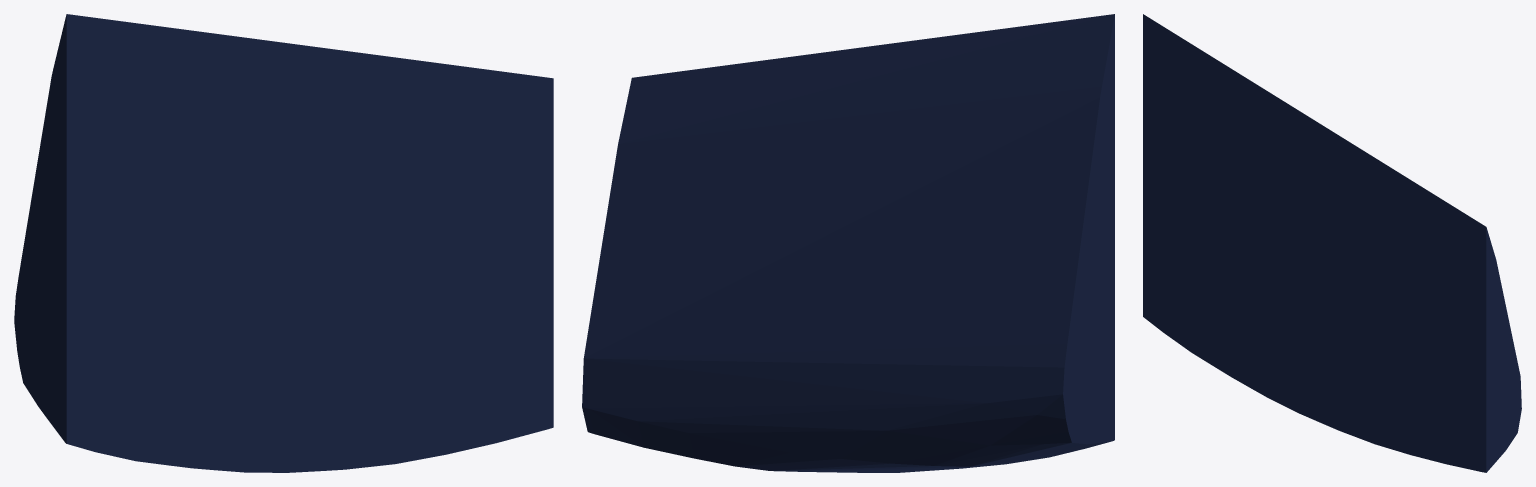
File: piece_21.obj
3 renders of one model, left to right at view 1: azimuth 30°, elevation 25°; view 2: azimuth 150°, elevation 25°; view 3: azimuth 330°, elevation 25°, orthographic. The views are drawn at different scales.
Bounding box in the file's own units: 0.0164 × 0.0172 × 0.00306.
